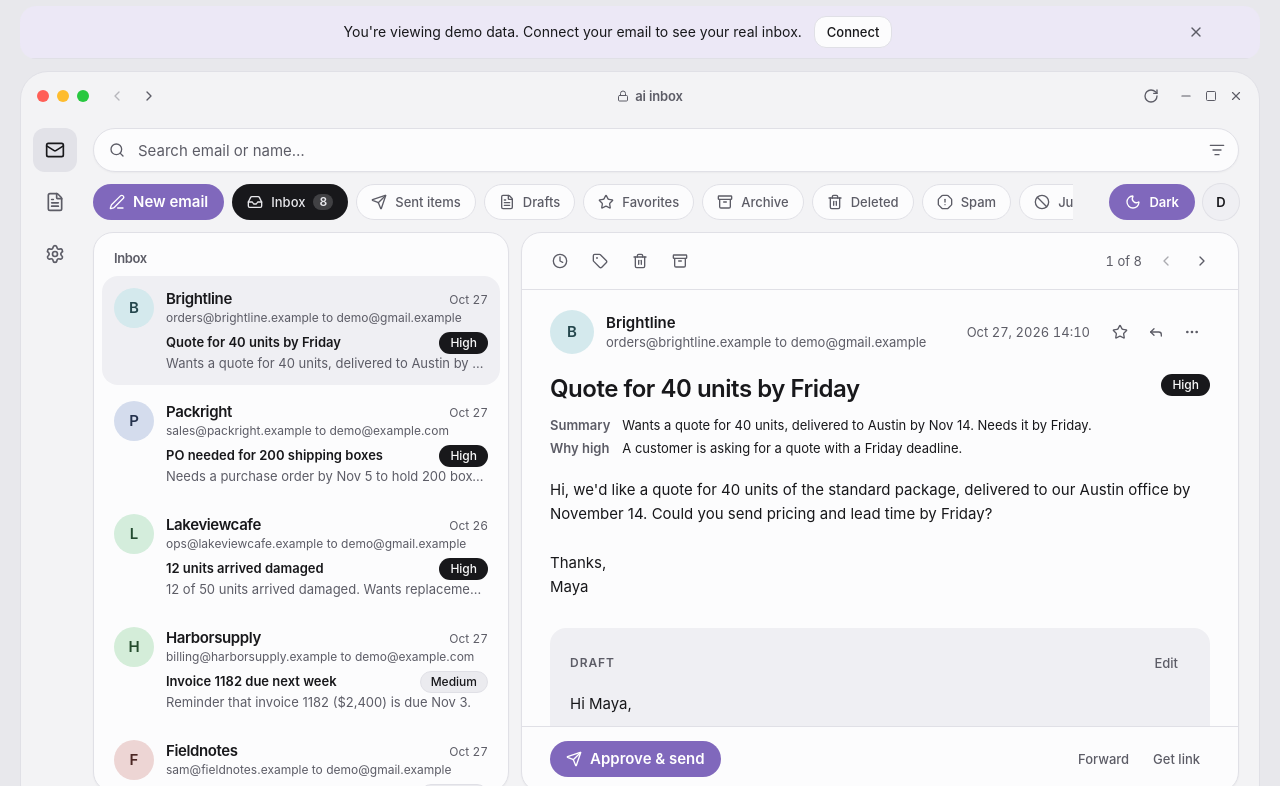
Test case: app › throws away edits on cancel
The width and height of the screenshot is (1280, 786).
Click the button "Edit" at (1166, 664), box [1142, 648, 1190, 680]
(page scrolled)
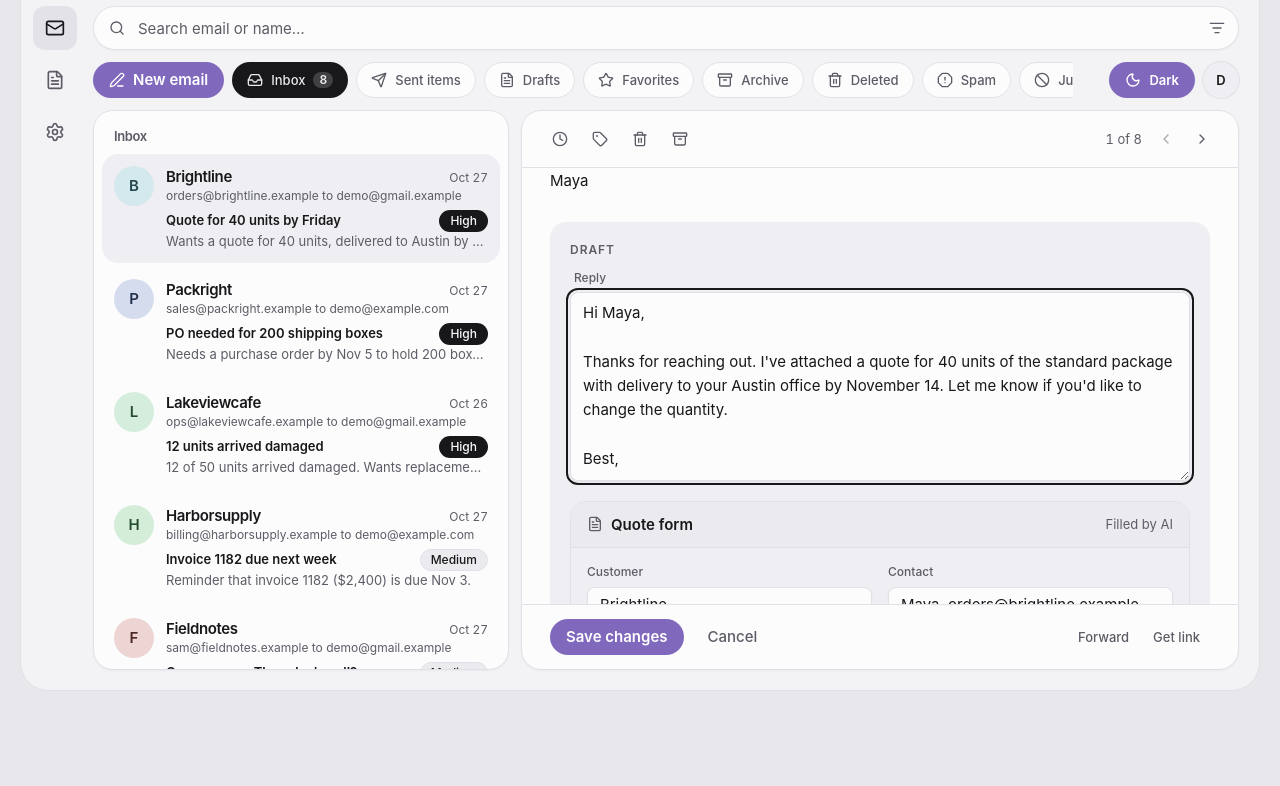
Type " Extra words." into the text box labelled "Reply" at (880, 386), box [570, 292, 1190, 480]
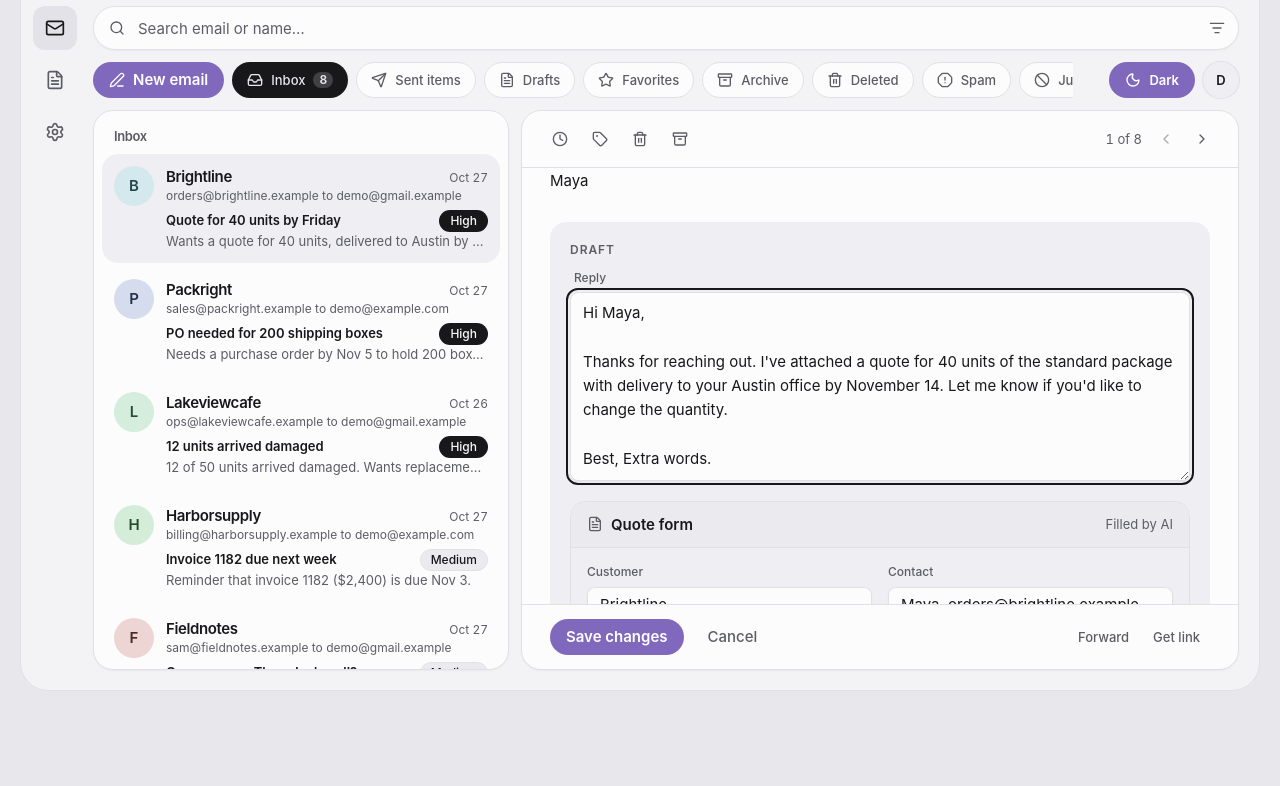
Click the button "Cancel" at (732, 637), box [692, 619, 773, 655]
(page scrolled)
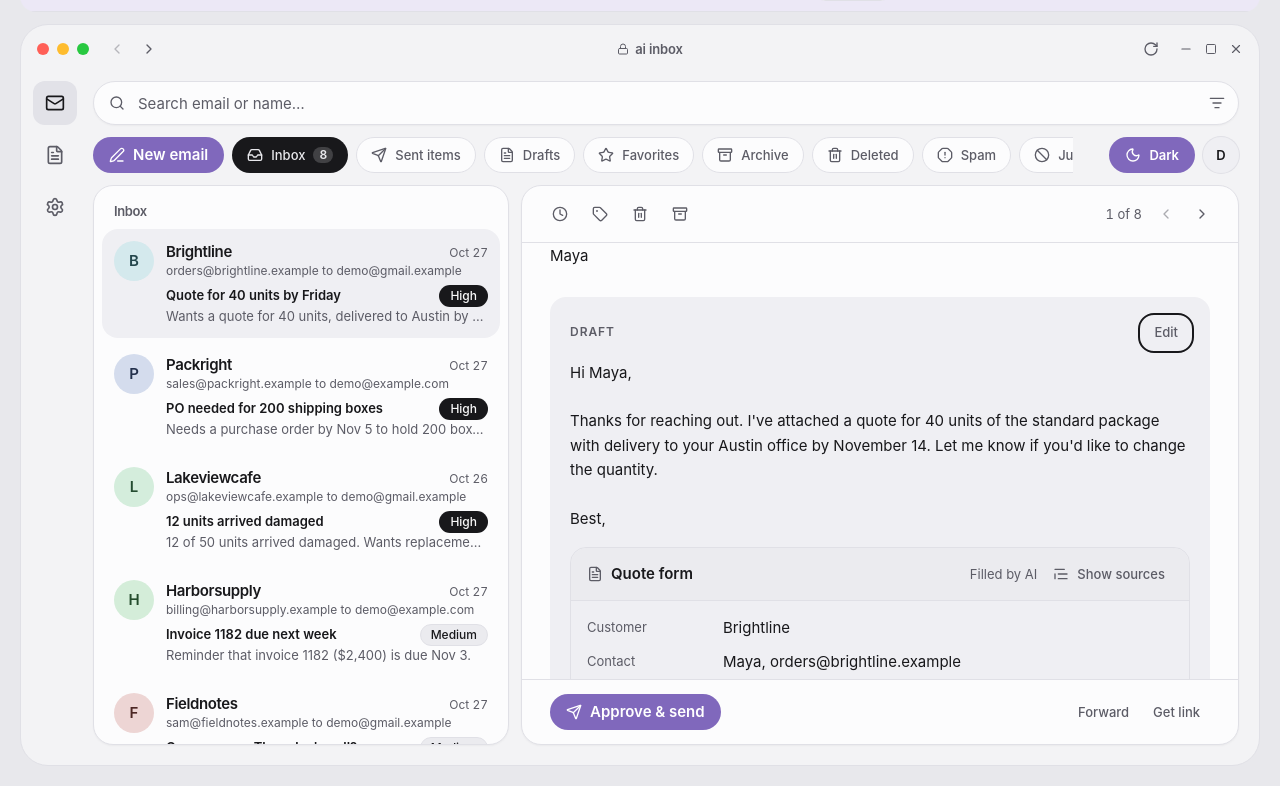
Now the button "Approve & send" is enabled, box [550, 694, 721, 730]
